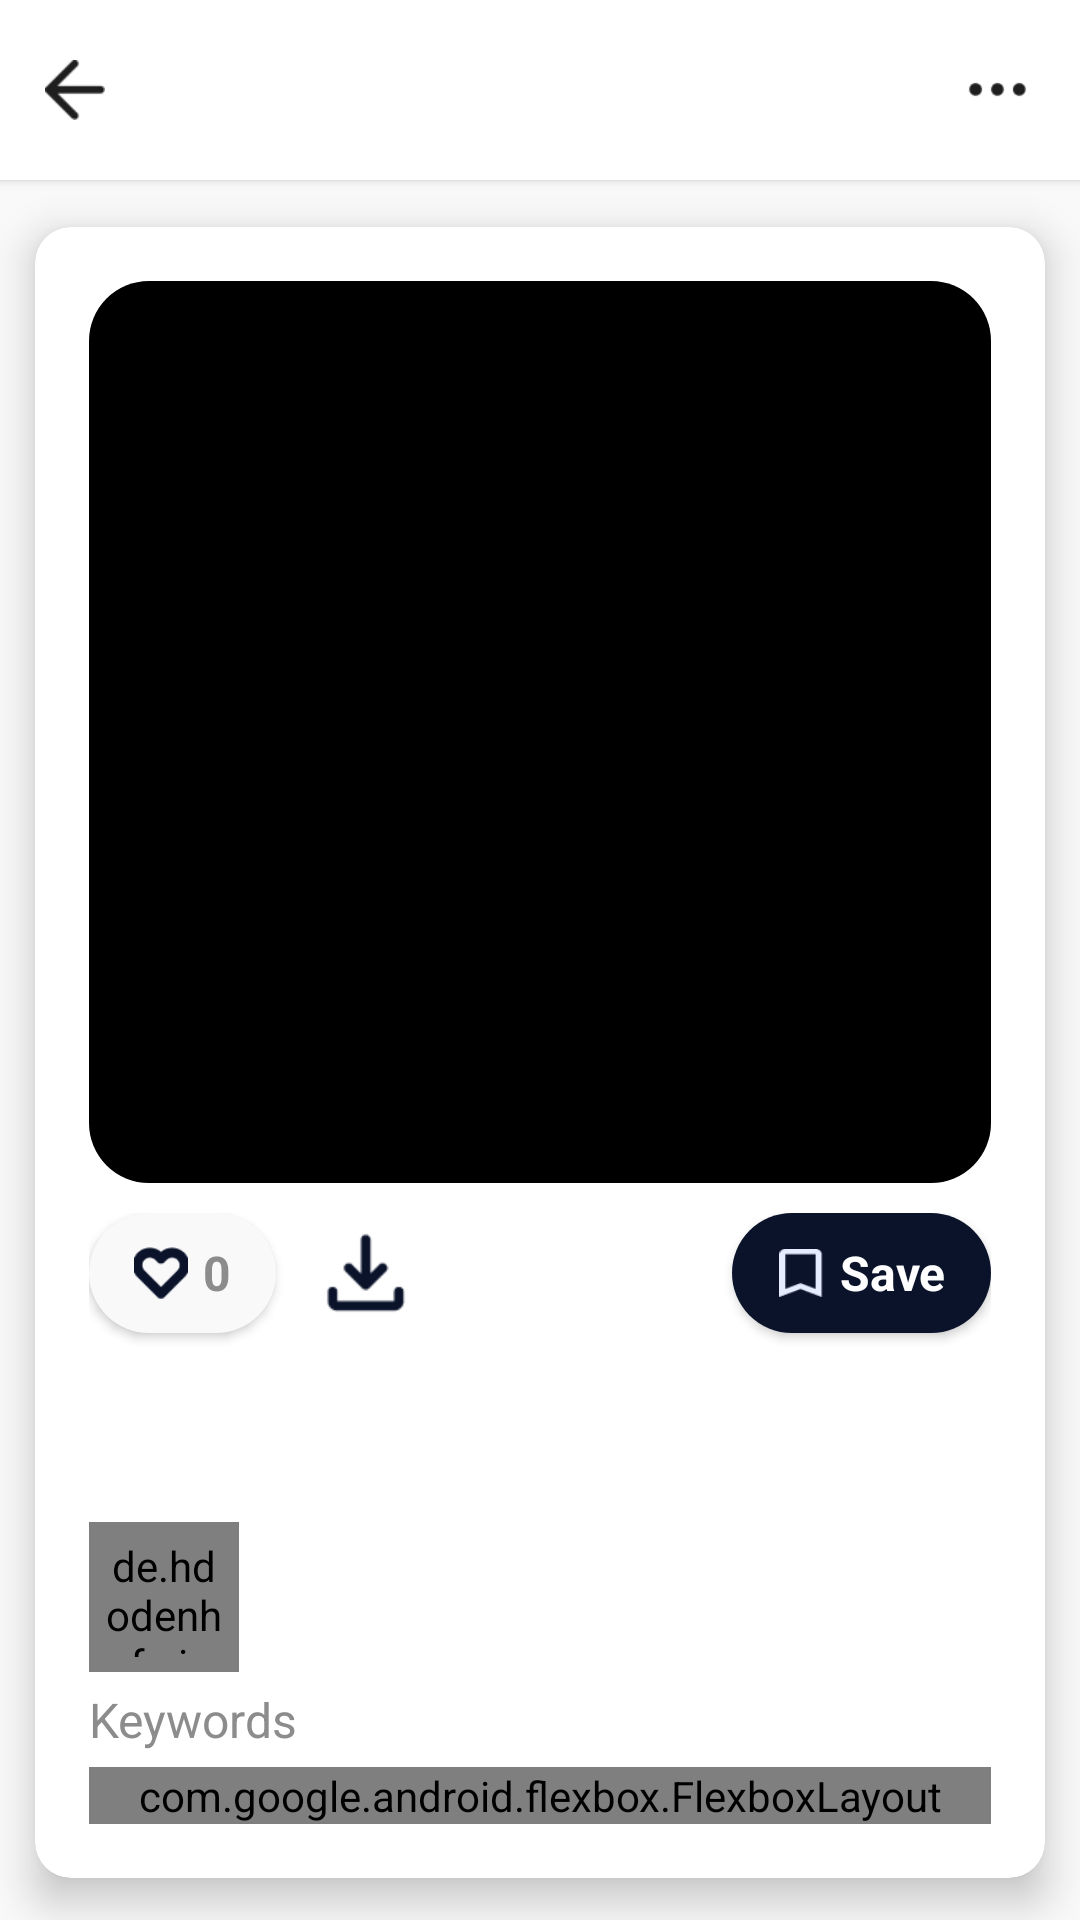

Point at icon controls on the screen. Image size 1080px x 1920px, points as (x=x, y=y).
back: (x=75, y=90)
download: (x=366, y=1273)
heart: (x=161, y=1273)
three dots horizontal: (x=997, y=89)
